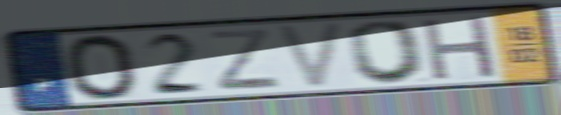2: (138, 32, 206, 97)
H: (419, 13, 501, 83)
O: (61, 32, 143, 103), (346, 18, 431, 86)
V: (272, 20, 349, 92)
Z: (205, 26, 285, 92)
